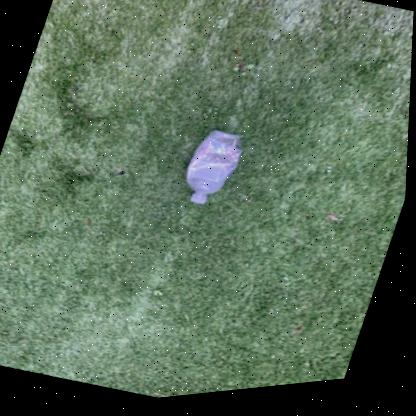Plastic: (188, 135, 244, 208)
